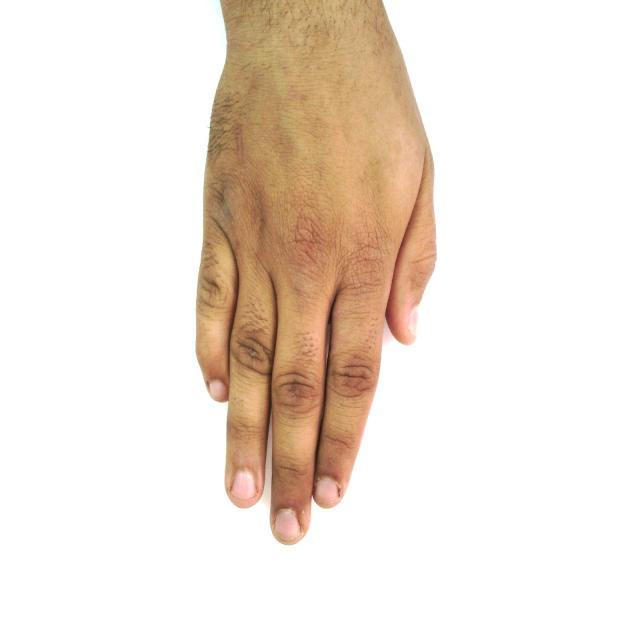Fingernail: (275, 509, 300, 541), (232, 470, 257, 501), (316, 478, 338, 506), (409, 305, 419, 340), (210, 380, 226, 400)
